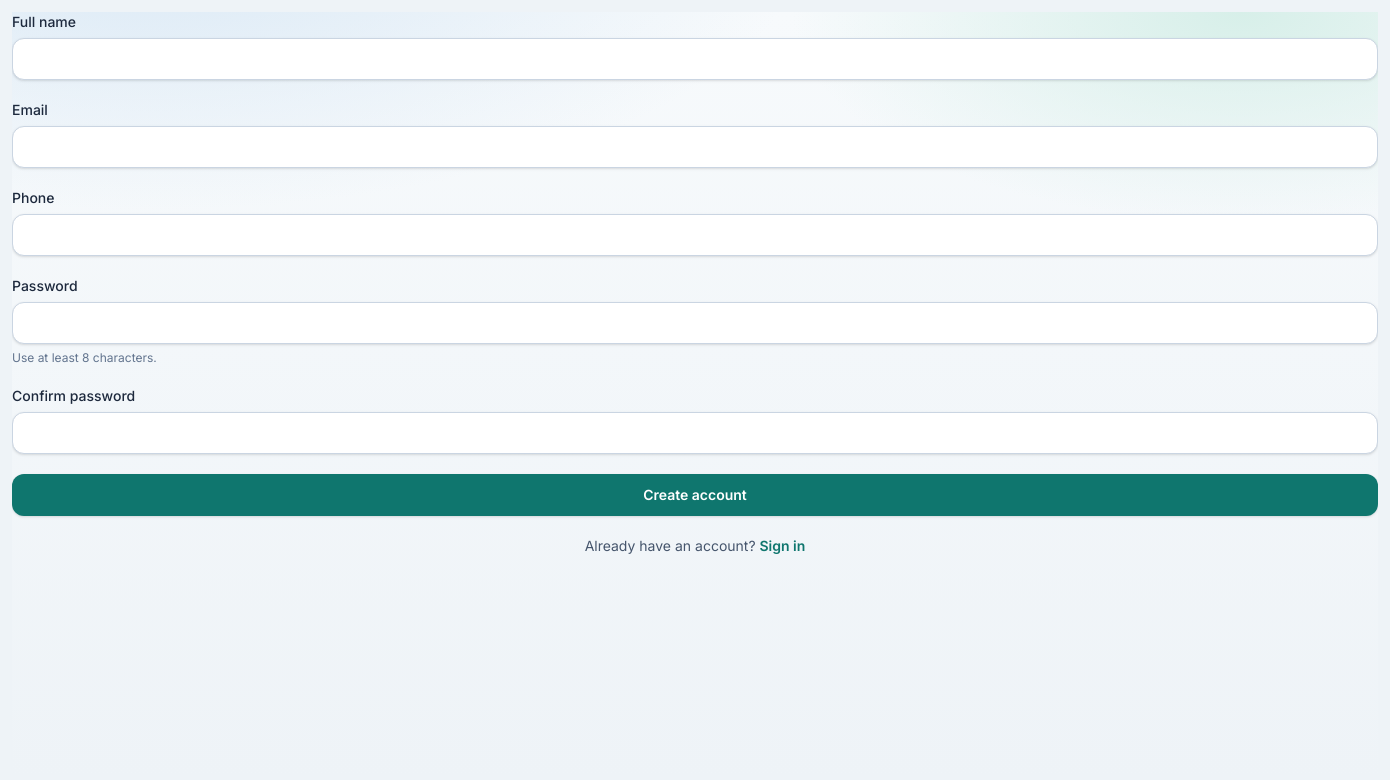
Test: SignupForm › keeps every value and makes no request for a password mismatch
In the field labelled "Full name": point(695, 59) x1=12 y1=38 x2=1378 y2=80, type "Test Customer"
In the field labelled "Email": point(695, 147) x1=12 y1=126 x2=1378 y2=168, type "customer@example.org"
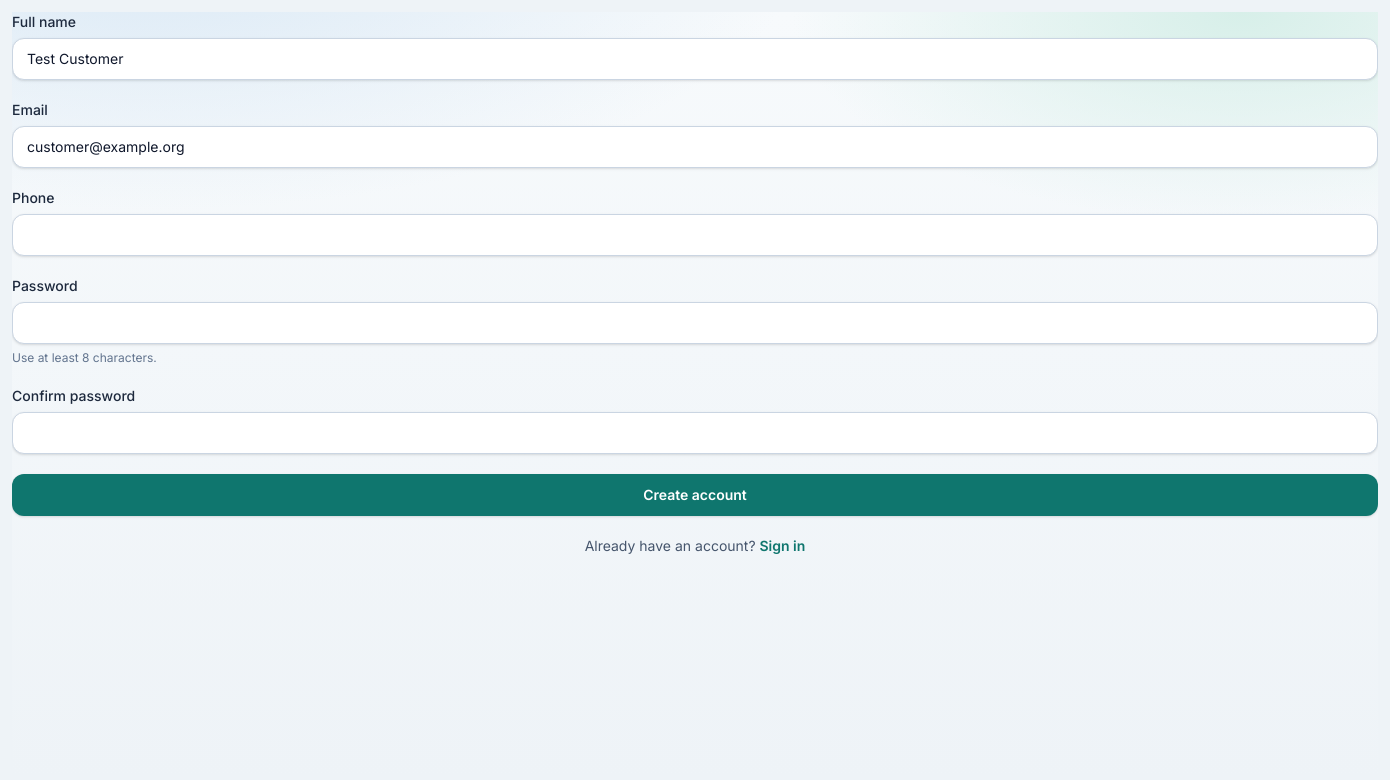
In the field labelled "Phone": point(695, 235) x1=12 y1=214 x2=1378 y2=256, type "+973 3000 0000"
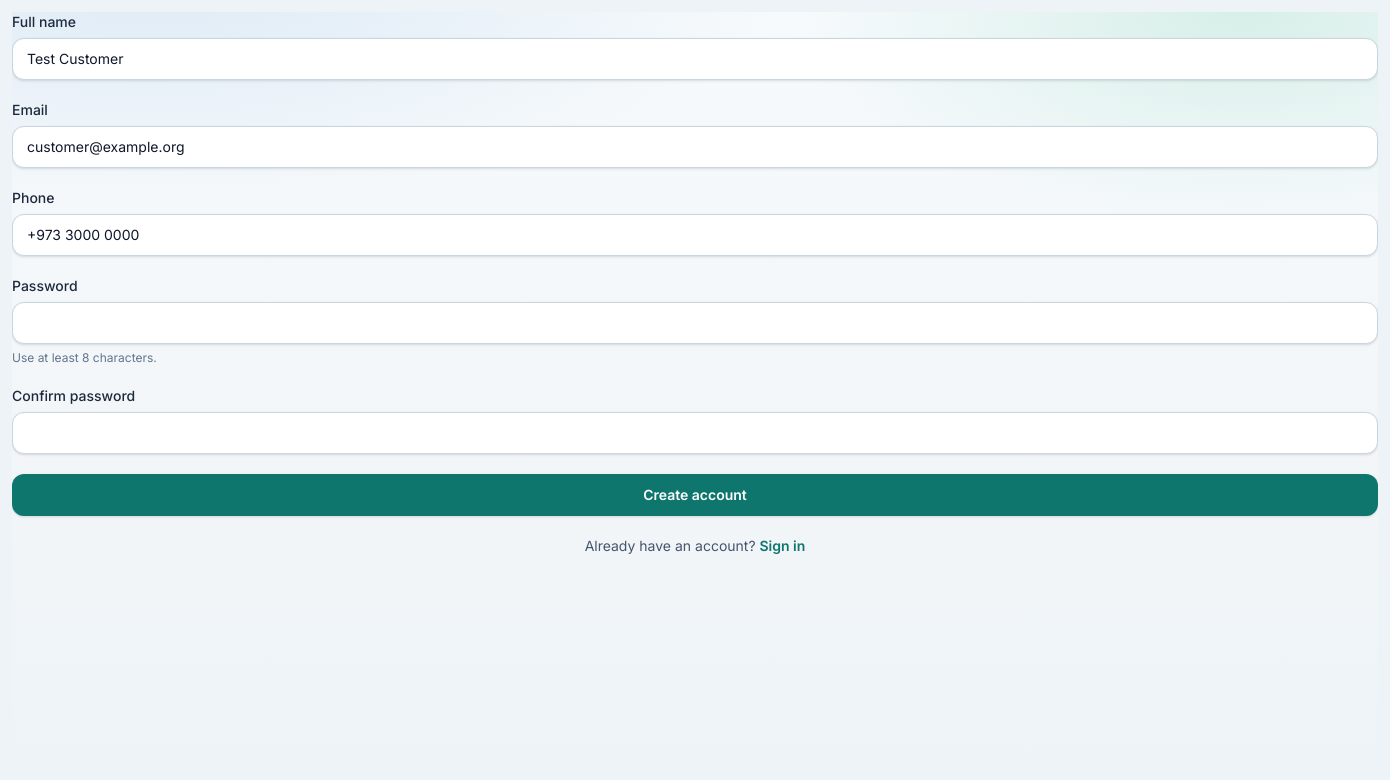
In the password field labelled "Password": point(695, 323) x1=12 y1=302 x2=1378 y2=344, type "password1"
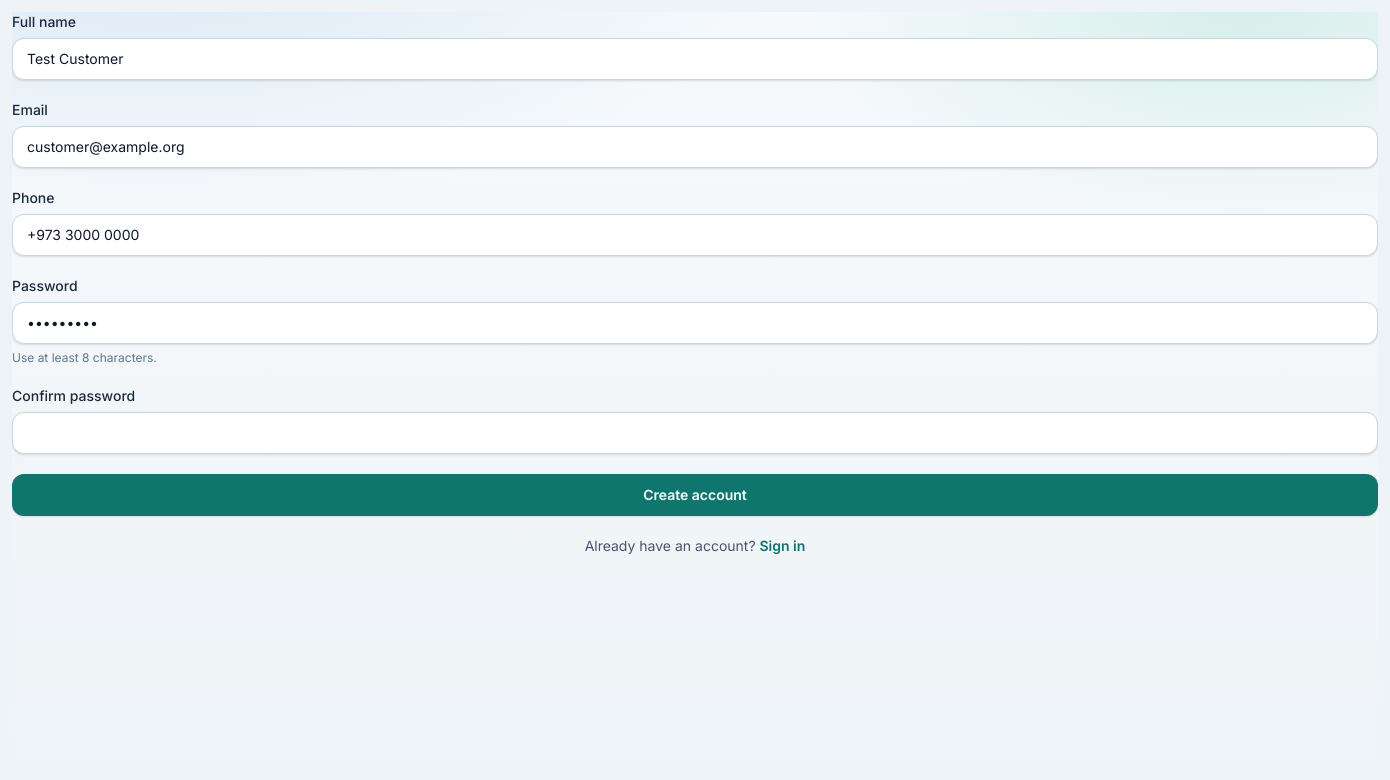
In the password field labelled "Confirm password": point(695, 433) x1=12 y1=412 x2=1378 y2=454, type "password1"
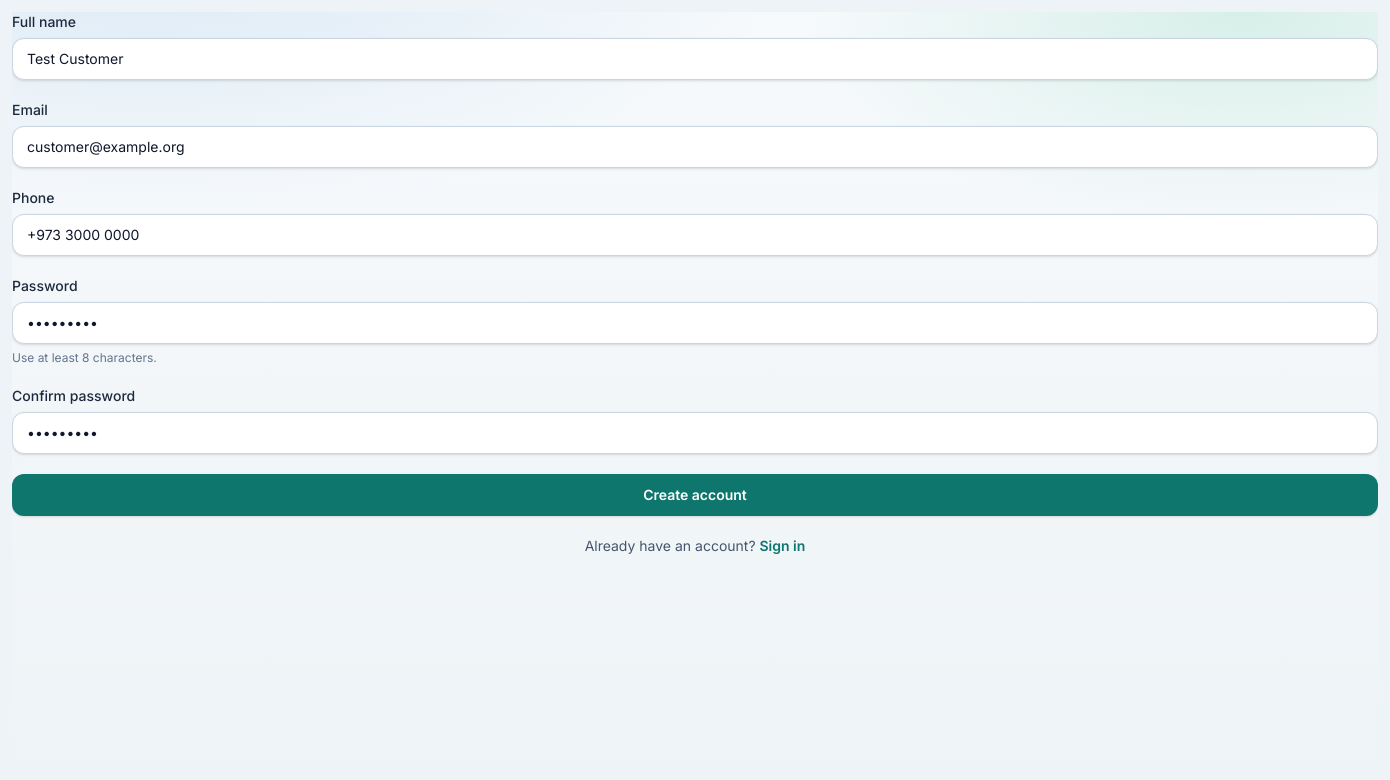
In the password field labelled "Confirm password": point(695, 433) x1=12 y1=412 x2=1378 y2=454, type "different1"
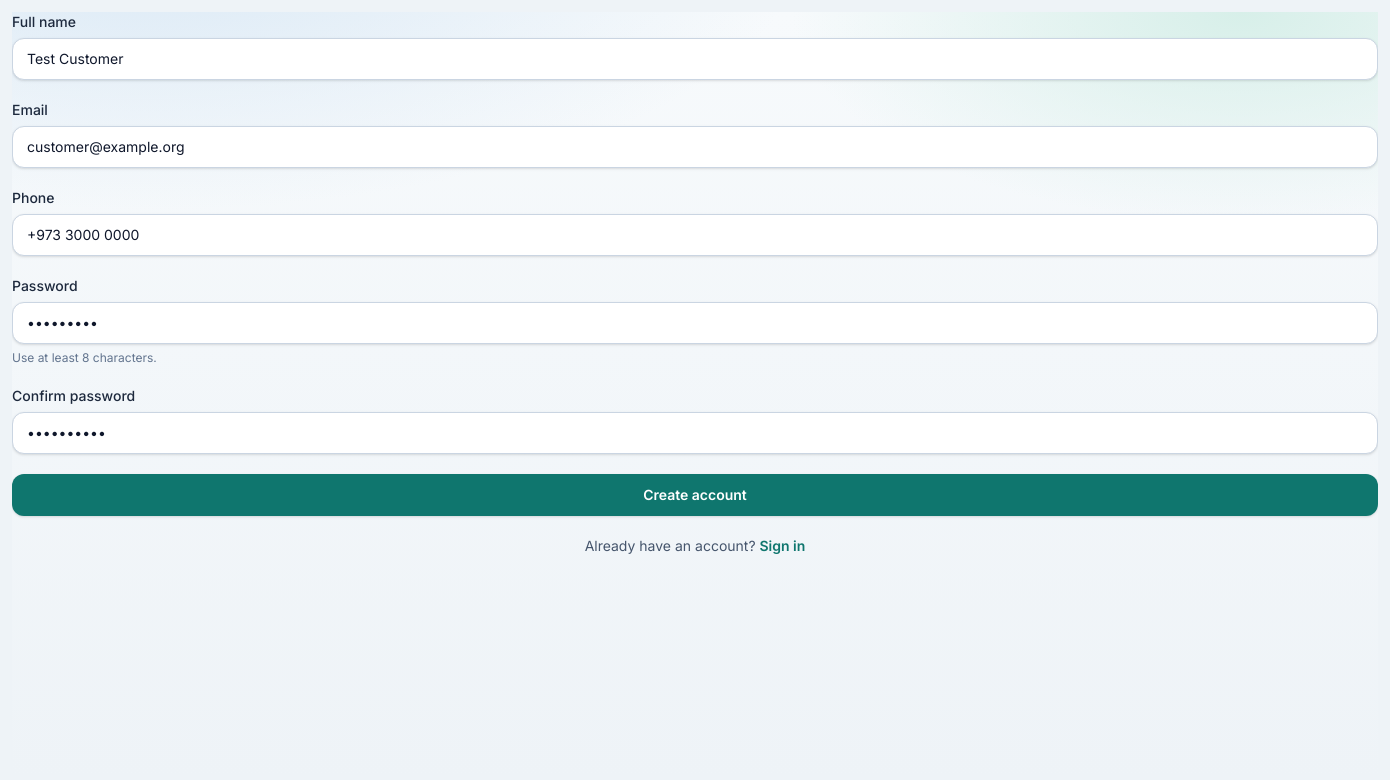
Click the button "Create account": point(695, 495) x1=12 y1=474 x2=1378 y2=516
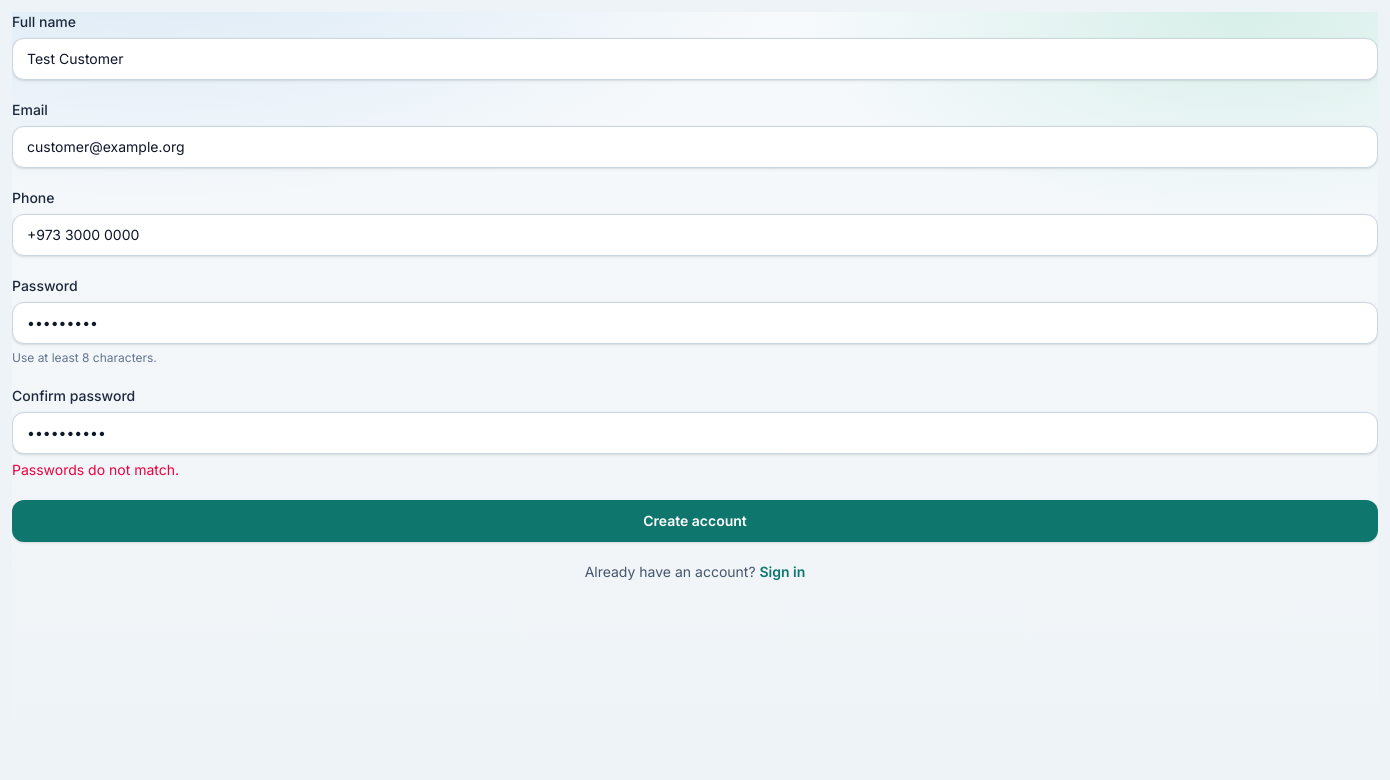
Expected: the text "Passwords do not match." is shown, x1=12 y1=461 x2=179 y2=478
